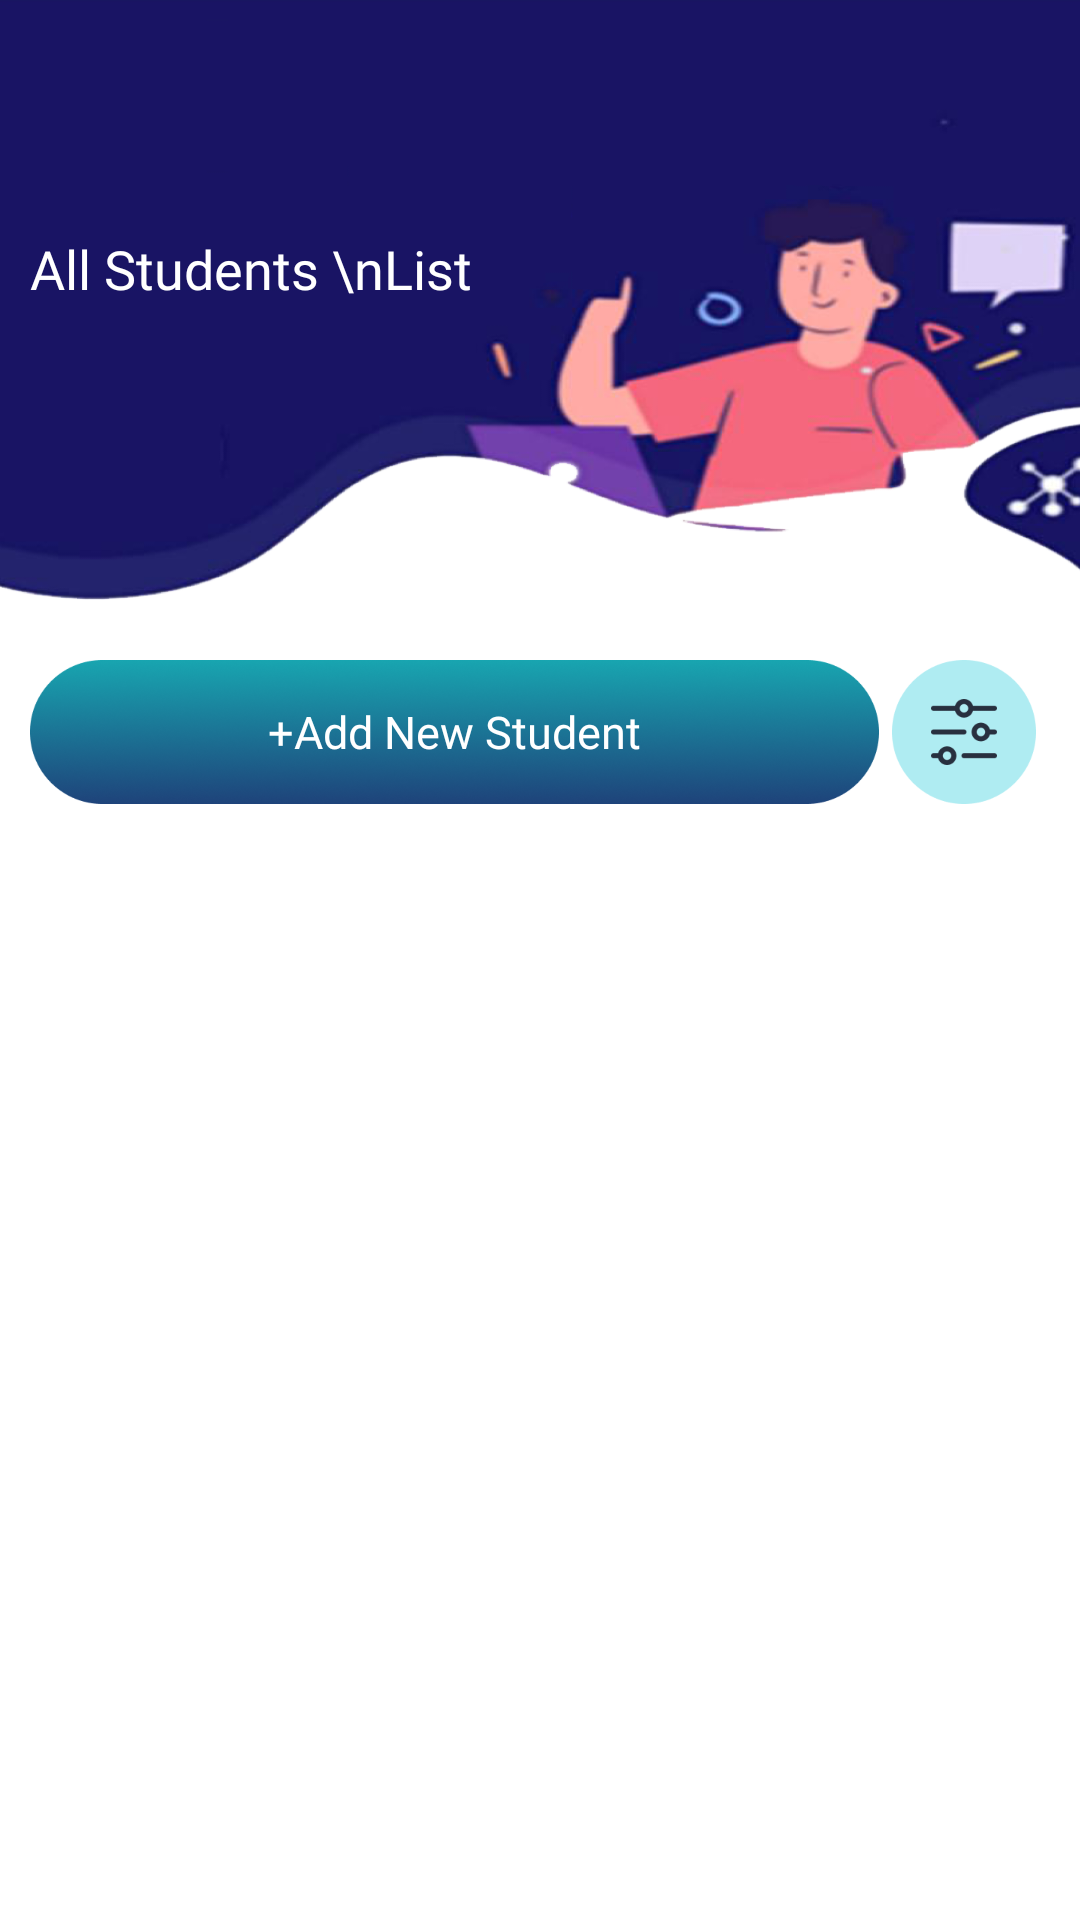

Icons on this 1080 × 1920 Android screen, each with its box as (x1, y1, x2, y2):
filter: (892, 660, 1036, 804)
